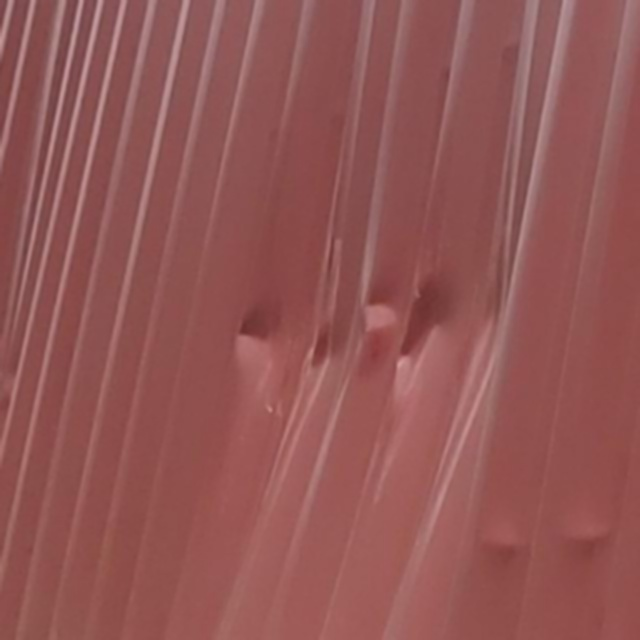Dent: (181, 40, 561, 546)
